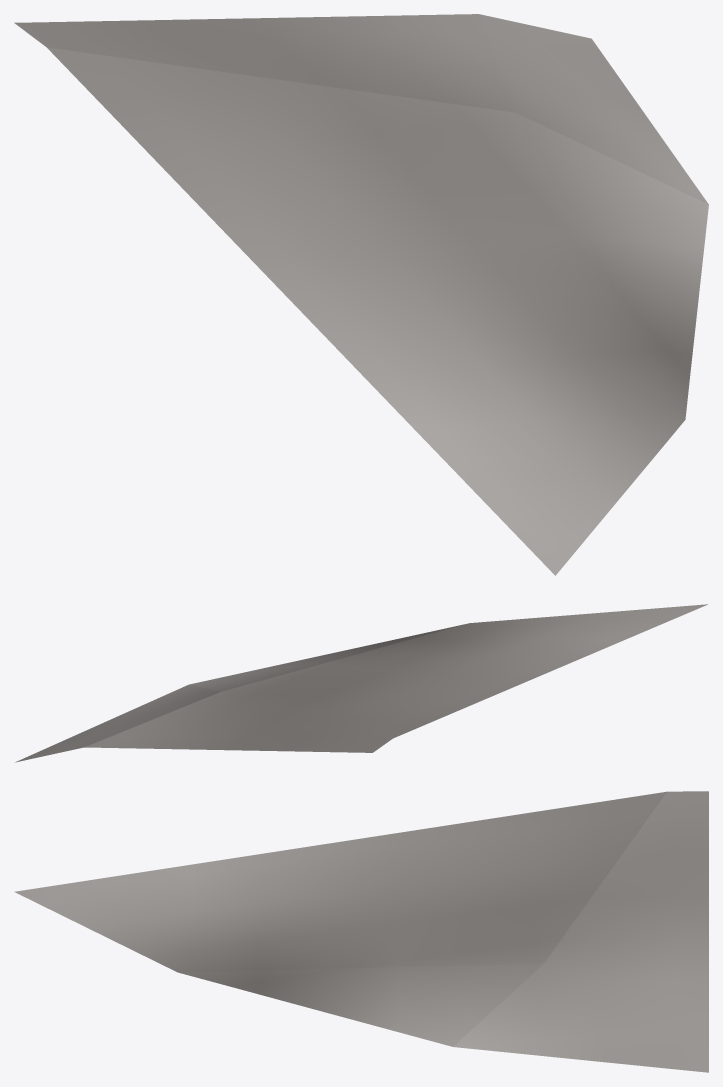
3 renders of one model, top to bottom at view 1: azimuth 30°, elevation 25°; view 2: azimuth 150°, elevation 25°; view 3: azimuth 270°, elevation 25°, orthographic. The views are drawn at different scales.
Bounding box in the file's own units: 0.0197 × 0.0051 × 0.032.
1 material, 1 textured.
